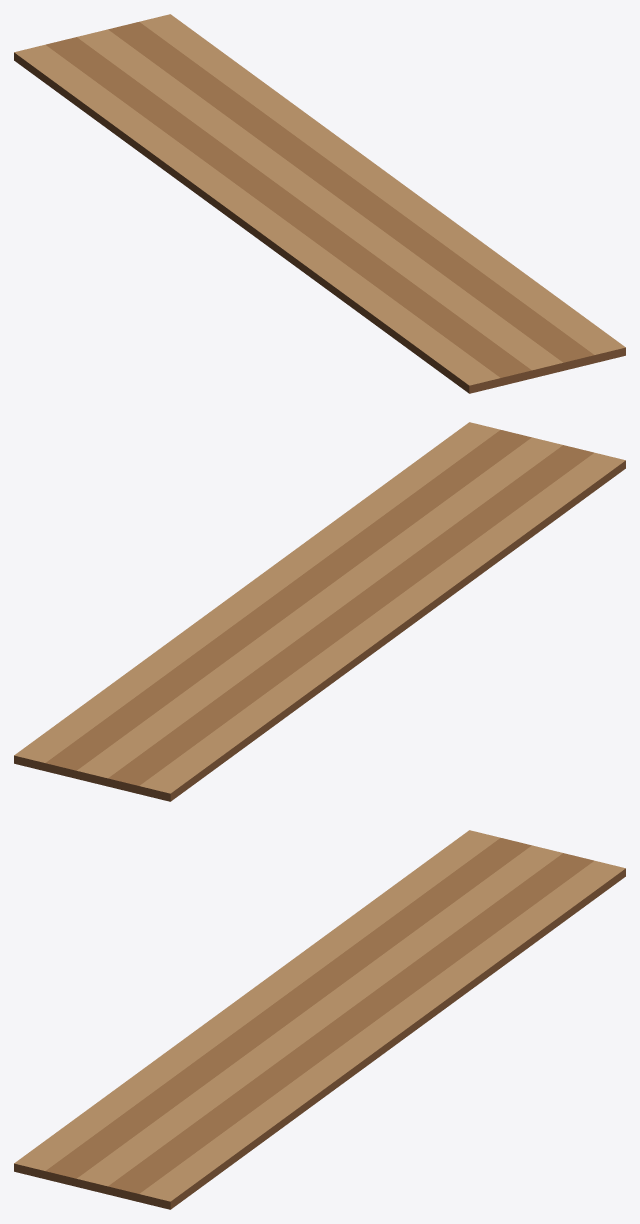
Rendered from Slab.fbx.
The picture shows the model from 3 angles, top to bottom: view 1: azimuth 30°, elevation 25°; view 2: azimuth 150°, elevation 25°; view 3: azimuth 330°, elevation 25°; orthographic projection.
Parts seen in each view (by area): view 1: Slab; view 2: Slab; view 3: Slab.
Boxes of the visible parts, x1,y1,x2,y2 form: Slab: (14, 14, 625, 393); Slab: (14, 422, 625, 801); Slab: (14, 830, 625, 1209).
Bounding box in the file's own units: 2 × 0.1 × 10.08.
1 material, 1 textured.
